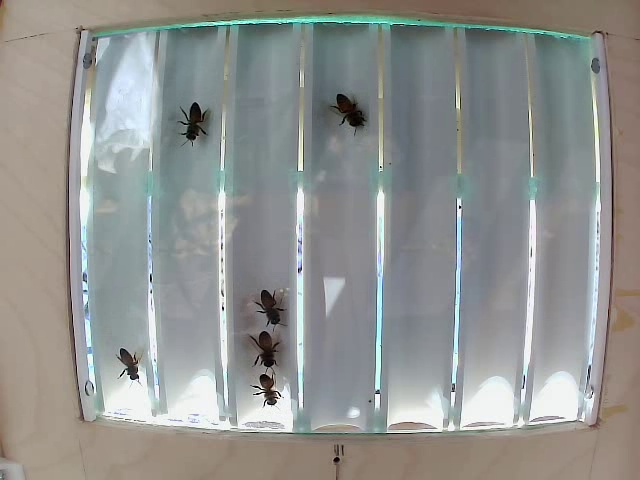bee: (321, 81, 371, 151), (257, 269, 300, 335), (180, 98, 216, 170), (244, 315, 282, 374), (245, 374, 286, 416)
